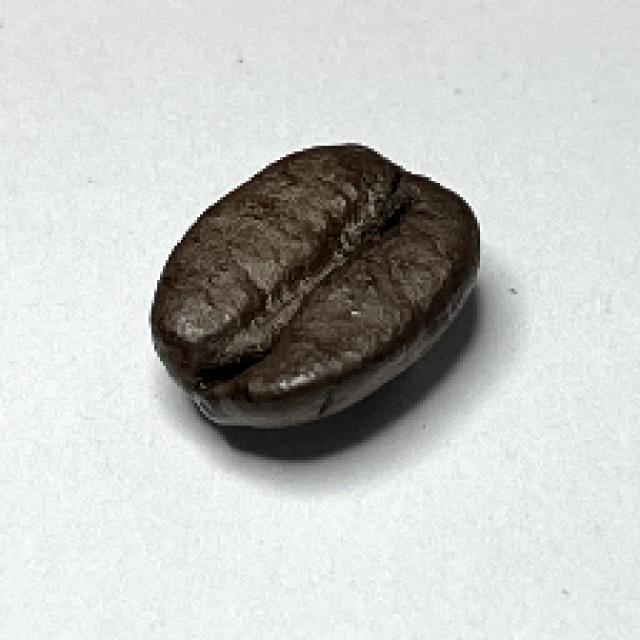bean: (145, 138, 483, 429)
